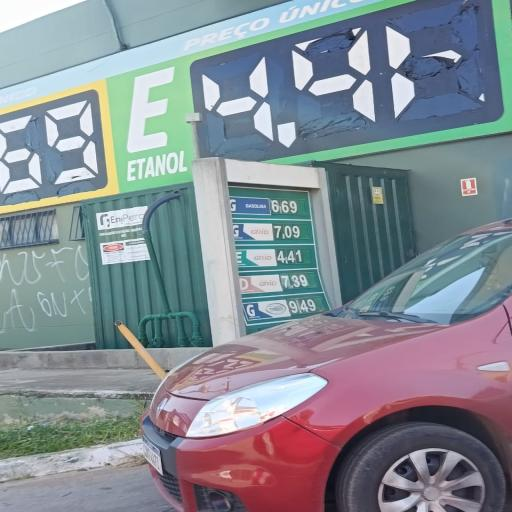ETANOL: (234, 249, 278, 268)
GASOLINA AD: (230, 223, 272, 241)
GASOLINA C: (229, 197, 271, 215)
S10: (239, 275, 281, 294)
placa: (227, 186, 328, 301)
preco: (280, 273, 311, 291), (276, 248, 306, 265), (274, 223, 302, 240), (271, 199, 300, 215)
